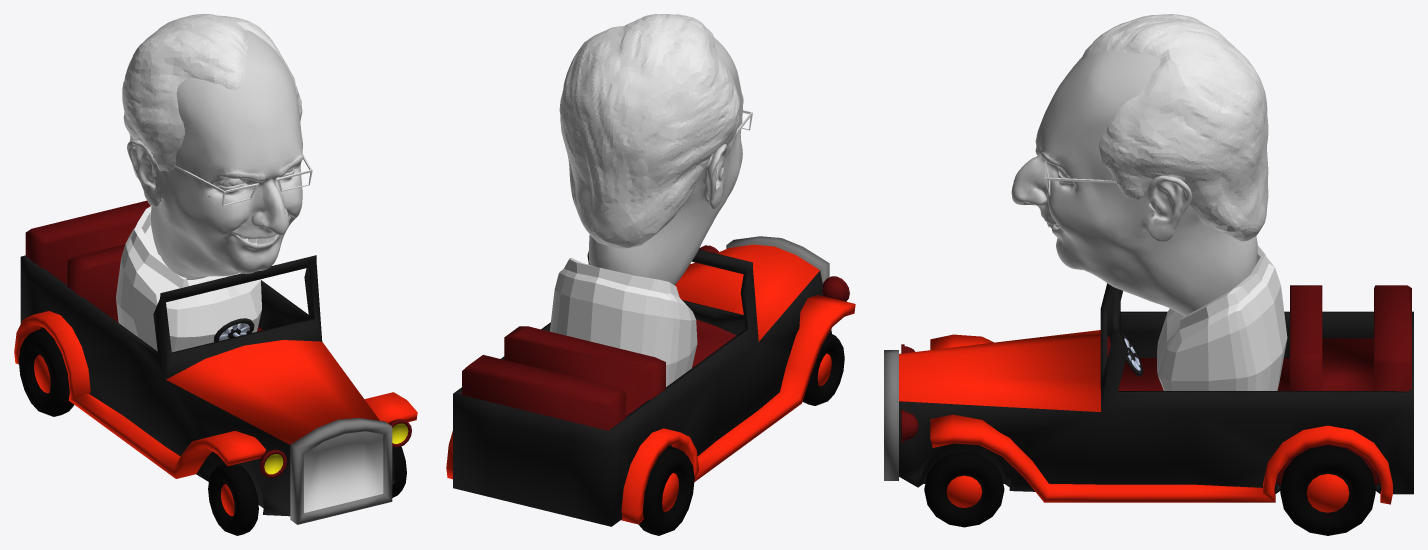
File: 01Cunha.fbx
3 views of the same model, side by side, from view 1: azimuth 30°, elevation 25°; view 2: azimuth 150°, elevation 25°; view 3: azimuth 270°, elevation 25° (orthographic). The views are drawn at different scales.
Visible parts, largest first — view 1: Cube.006, cunhateste5, Sphere.001, Cube.005, Cube.004, Circle.002; view 2: Cube.006, Sphere.001, Cube.005, cunhateste5; view 3: Cube.006, cunhateste5, Sphere.001, Cube.005.
Boxes of the visible parts, left/top/right/bottom form: Cube.006: left=14, top=200, right=417, bottom=535; cunhateste5: left=127, top=30, right=303, bottom=279; Sphere.001: left=122, top=14, right=302, bottom=178; Cube.005: left=116, top=206, right=261, bottom=352; Cube.004: left=173, top=153, right=312, bottom=206; Circle.002: left=213, top=318, right=254, bottom=341; Cube.006: left=446, top=236, right=855, bottom=535; Sphere.001: left=559, top=14, right=739, bottom=248; Cube.005: left=549, top=258, right=697, bottom=386; cunhateste5: left=588, top=37, right=743, bottom=285; Cube.006: left=884, top=283, right=1413, bottom=535; cunhateste5: left=1011, top=50, right=1257, bottom=315; Sphere.001: left=1081, top=14, right=1268, bottom=241; Cube.005: left=1157, top=245, right=1287, bottom=390.
Bounding box in the file's own units: 615 × 589 × 290.
